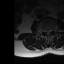CCS_normal: (47, 28, 49, 35)
LFS_normal: (50, 27, 52, 32)
LLS_normal: (49, 28, 50, 34)
RFS_stenosis: (43, 28, 45, 33)
RLS_normal: (45, 28, 47, 34)
